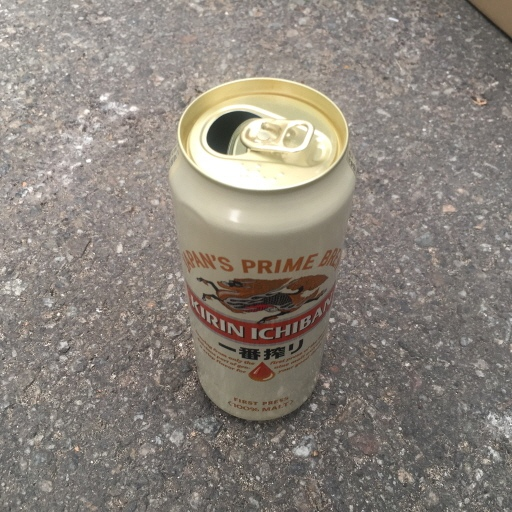Metal_0: (167, 75, 357, 426)
